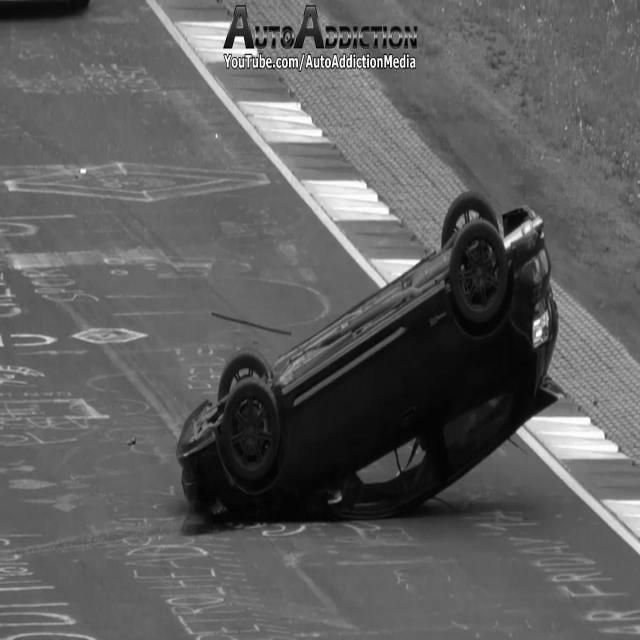severe: (169, 182, 561, 538)
